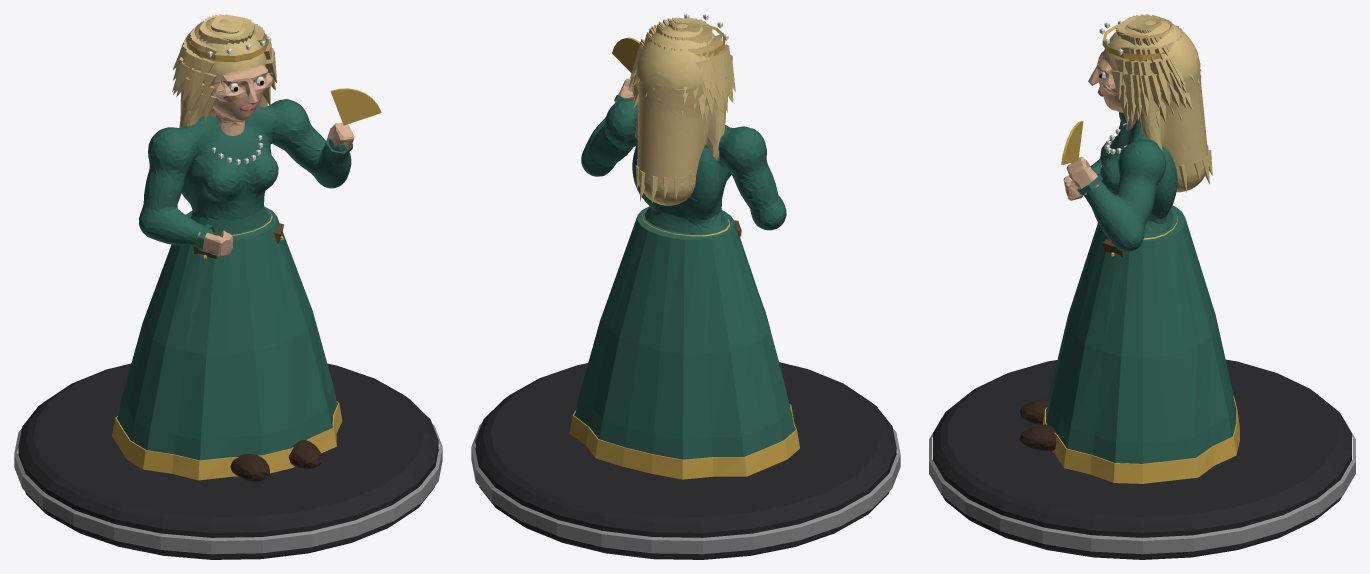
Rendered from noblewoman.glb.
3 renders of one model, left to right at view 1: azimuth 30°, elevation 25°; view 2: azimuth 150°, elevation 25°; view 3: azimuth 270°, elevation 25°, orthographic.
Visible parts, largest first — view 1: noblewoman; view 2: noblewoman; view 3: noblewoman.
Part boxes in pixels (x1=…): noblewoman: x1=14, y1=14, x2=442, y2=559; noblewoman: x1=471, y1=14, x2=900, y2=559; noblewoman: x1=929, y1=14, x2=1355, y2=559.
Bounding box in the file's own units: 0.856 × 0.994 × 0.8498.
